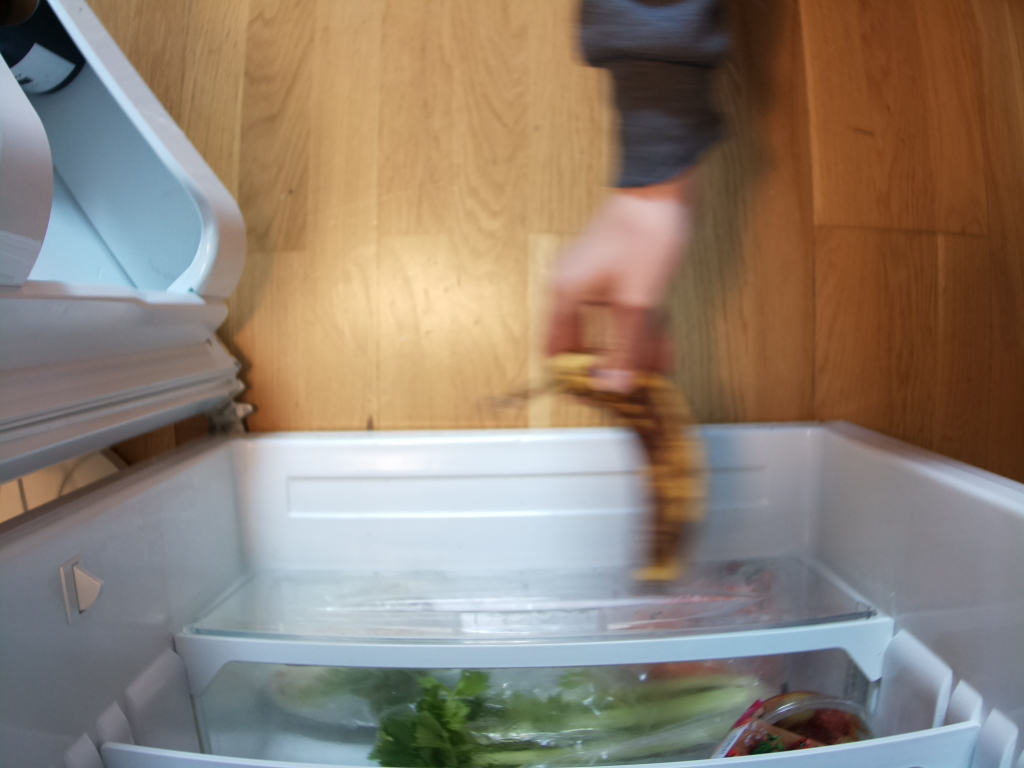banana-overripe: (482, 354, 705, 601)
